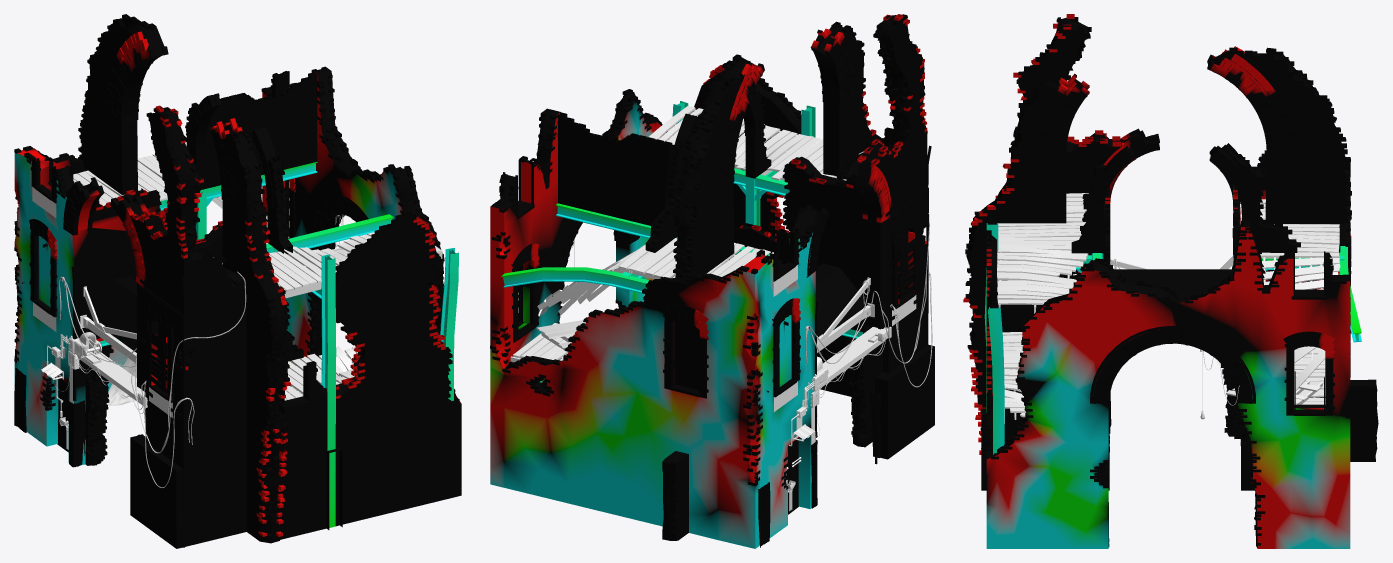
Rendered from Exit 1.fbx.
3 views of the same model, side by side, from view 1: azimuth 30°, elevation 25°; view 2: azimuth 150°, elevation 25°; view 3: azimuth 270°, elevation 25° (orthographic). The views are drawn at different scales.
Visible parts, largest first — view 1: SM_Ind_ExitBuilding01.mo, SM_Ind_ExitBuilding01_Beams.mo, SM_Ind_ExitBuilding01_Ornament.mo, SM_Ind_ExitBuilding01_WoodStructure.mo, SM_Ind_ExitBuilding01_Ropes.mo; view 2: SM_Ind_ExitBuilding01.mo, SM_Ind_ExitBuilding01_WoodStructure.mo, SM_Ind_ExitBuilding01_Ornament.mo, SM_Ind_ExitBuilding01_Beams.mo, SM_Ind_ExitBuilding01_Ropes.mo; view 3: SM_Ind_ExitBuilding01.mo, SM_Ind_ExitBuilding01_WoodStructure.mo, SM_Ind_ExitBuilding01_Beams.mo.
Boxes of the visible parts, left/top/right/bottom form: SM_Ind_ExitBuilding01.mo: left=14, top=14, right=461, bottom=548; SM_Ind_ExitBuilding01_Beams.mo: left=99, top=162, right=458, bottom=527; SM_Ind_ExitBuilding01_Ornament.mo: left=14, top=243, right=187, bottom=547; SM_Ind_ExitBuilding01_WoodStructure.mo: left=73, top=154, right=442, bottom=400; SM_Ind_ExitBuilding01_Ropes.mo: left=49, top=271, right=246, bottom=487; SM_Ind_ExitBuilding01.mo: left=490, top=14, right=934, bottom=548; SM_Ind_ExitBuilding01_WoodStructure.mo: left=510, top=106, right=846, bottom=362; SM_Ind_ExitBuilding01_Ornament.mo: left=758, top=145, right=931, bottom=547; SM_Ind_ExitBuilding01_Beams.mo: left=501, top=101, right=862, bottom=364; SM_Ind_ExitBuilding01_Ropes.mo: left=805, top=151, right=932, bottom=436; SM_Ind_ExitBuilding01.mo: left=963, top=14, right=1378, bottom=548; SM_Ind_ExitBuilding01_WoodStructure.mo: left=997, top=193, right=1340, bottom=423; SM_Ind_ExitBuilding01_Beams.mo: left=984, top=223, right=1361, bottom=454.
Bounding box in the file's own units: 1117 × 1664 × 1491.
